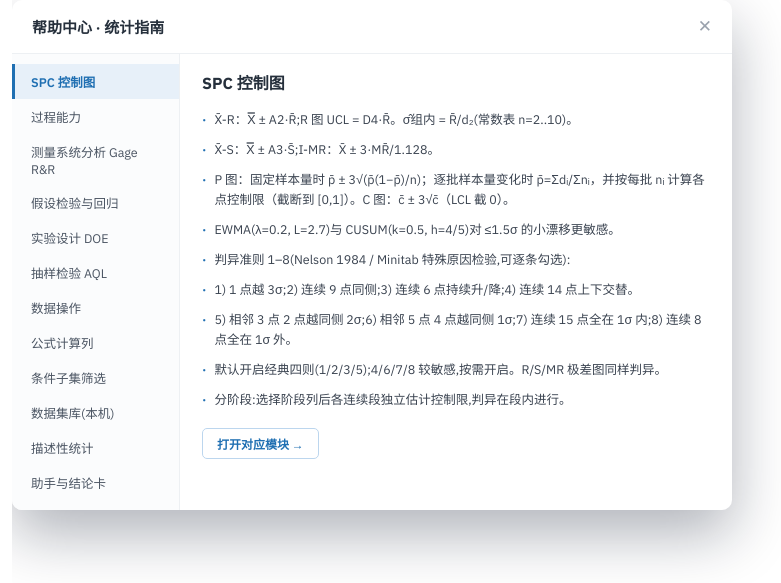
帮助和更新提示 › 帮助说明 P 图逐批 nᵢ 和 Gage 文本/数值 ID 类别列
expect the text "按每批 nᵢ 计算各点控制限" is shown: met, box x1=214 y1=171 x2=705 y2=207
Click the button "测量系统分析 Gage R&R" at (96,160), box x1=12 y1=134 x2=179 y2=185
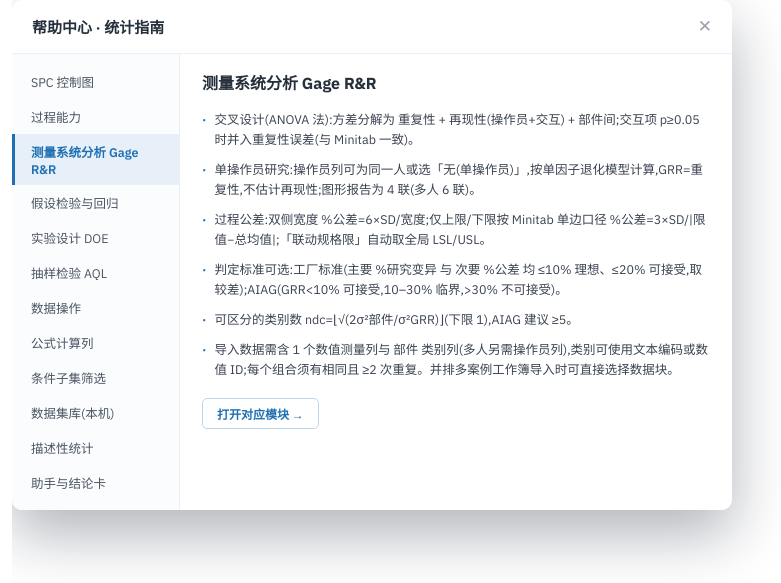
expect the text "类别可使用文本编码或数值 ID" is shown: met, box x1=214 y1=341 x2=708 y2=377
